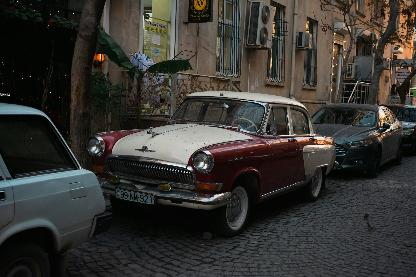car: (83, 84, 338, 241)
